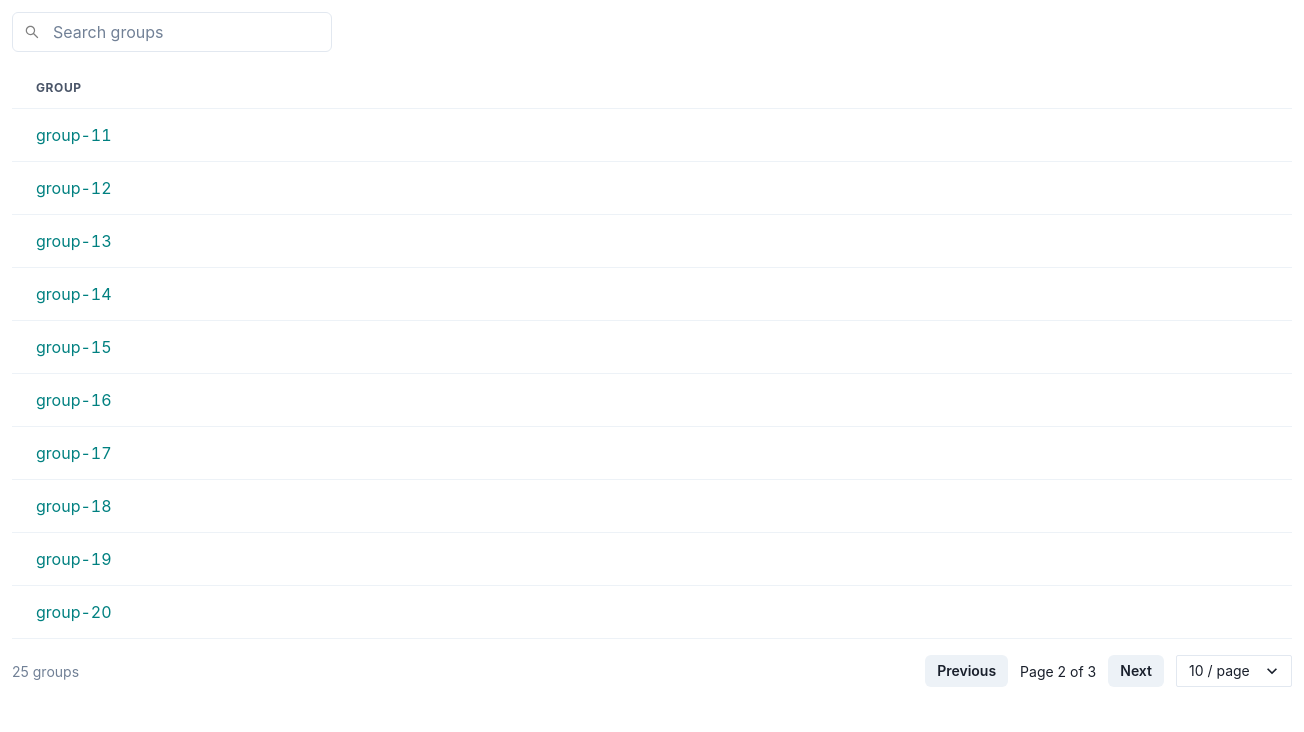
it: GroupList – URL-persisted pagination › resets to the first page when the filter changes so it cannot strand the user on an empty page
The image size is (1304, 732).
Type "group-0" into the field with placeholder "Search groups". click: (172, 32)
box: top-left (12, 12), bottom-right (332, 52)
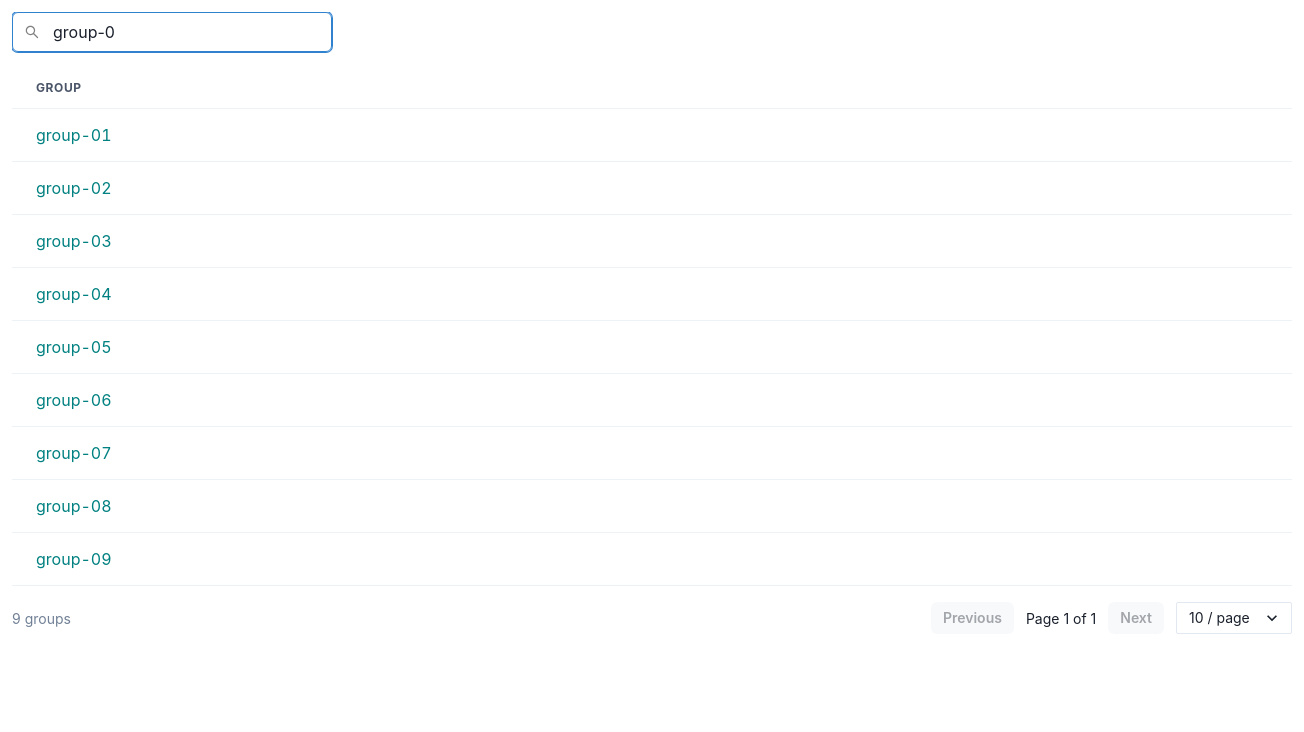
Expected: the link "group-01" is shown, top-left (36, 125), bottom-right (112, 145)
Expected: the link "group-11" is gone
